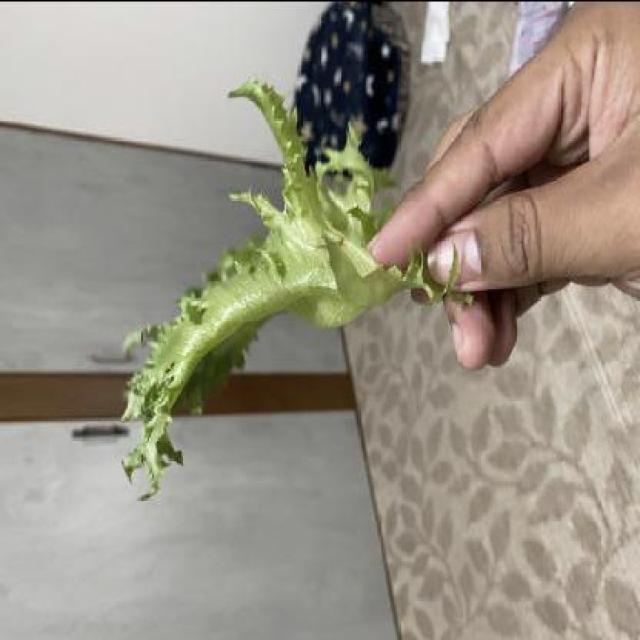Lettuce: (118, 75, 461, 515)
